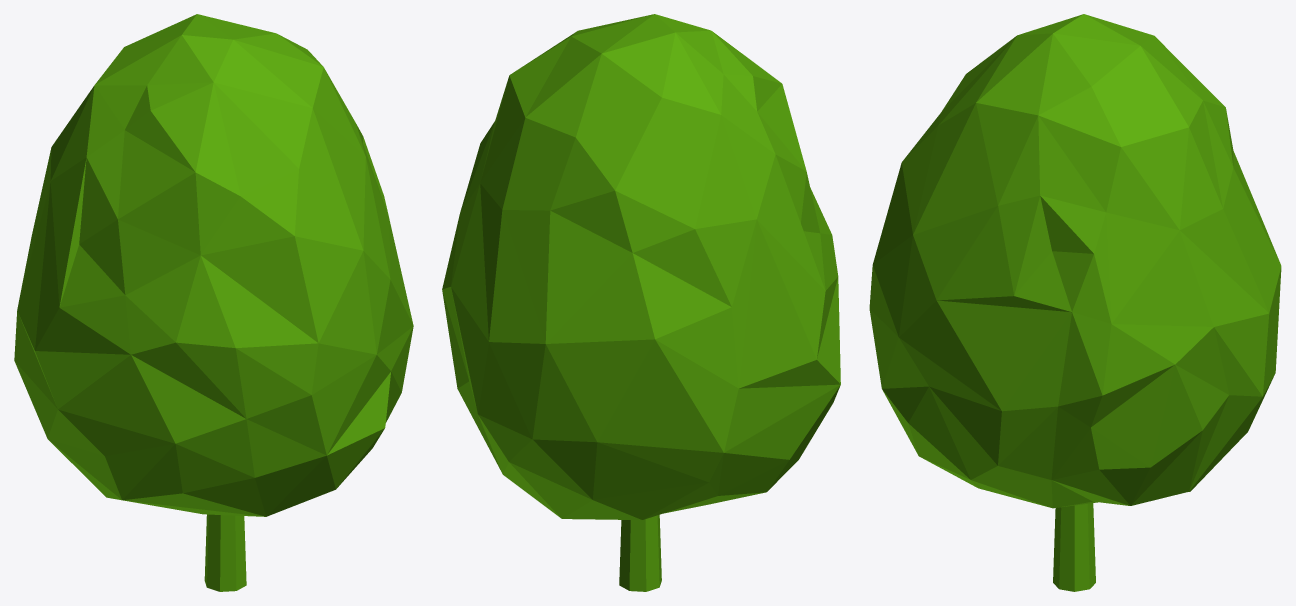
File: ShrubTreeC.fbx
3 renders of one model, left to right at view 1: azimuth 30°, elevation 25°; view 2: azimuth 150°, elevation 25°; view 3: azimuth 270°, elevation 25°, orthographic. The views are drawn at different scales.
Parts seen in each view (by area): view 1: ShrubTreeC_geo; view 2: ShrubTreeC_geo; view 3: ShrubTreeC_geo.
Part boxes in pixels (x1,y1,x2,y2): ShrubTreeC_geo: [14, 14, 413, 591]; ShrubTreeC_geo: [442, 14, 840, 591]; ShrubTreeC_geo: [869, 14, 1281, 591].
Bounding box in the file's own units: 427 × 639 × 434.
